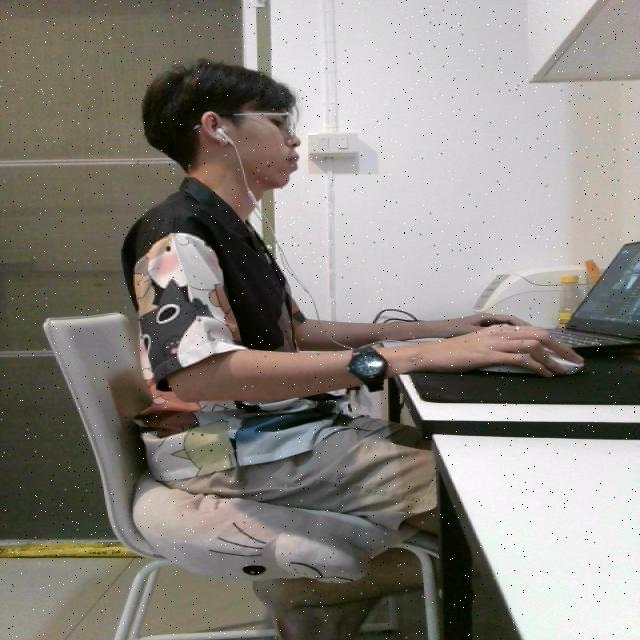Good: (113, 55, 438, 515)
